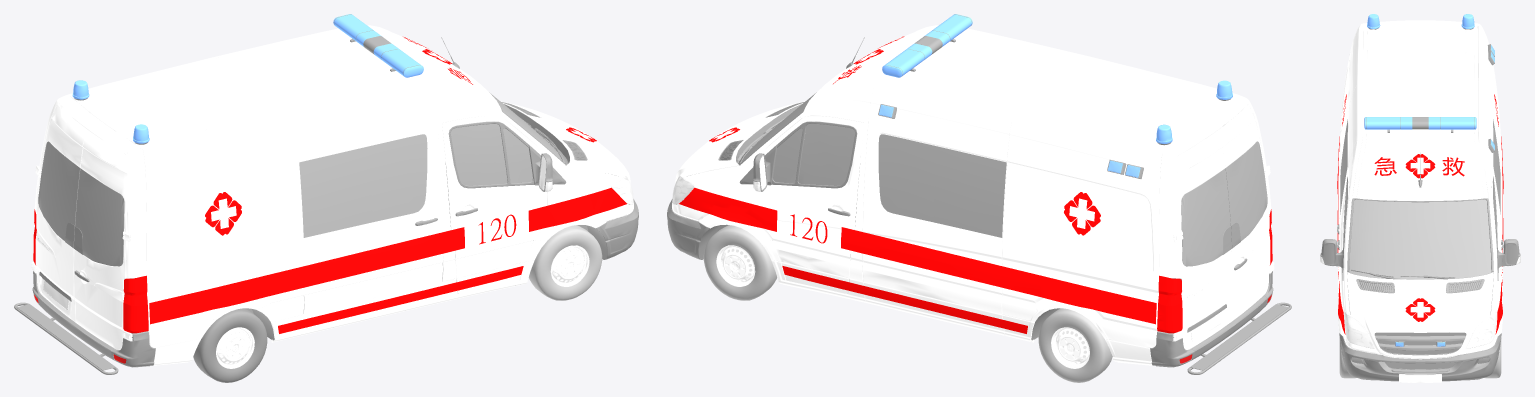
Rendered from Ambulance.glb.
The picture shows the model from 3 angles, left to right: view 1: azimuth 30°, elevation 25°; view 2: azimuth 150°, elevation 25°; view 3: azimuth 270°, elevation 25°; orthographic projection. The views are drawn at different scales.
Parts seen in each view (by area): view 1: jiuhuche_16, jiuhuche_25, jiuhuche_28, jiuhuche_13, jiuhuche_26, jiuhuche_11, jiuhuche_29, jiuhuche_18, jiuhuche_12, jiuhuche_39, jiuhuche_15, jiuhuche_38; view 2: jiuhuche_16, jiuhuche_25, jiuhuche_28, jiuhuche_13, jiuhuche_26, jiuhuche_11, jiuhuche_29, jiuhuche_12, jiuhuche_18, jiuhuche_39, jiuhuche_15; view 3: jiuhuche_25, jiuhuche_28, jiuhuche_26, jiuhuche_16, jiuhuche_13, jiuhuche_18, jiuhuche_23, jiuhuche_22, jiuhuche_11, jiuhuche_24.
Boxes of the visible parts, x1,y1,x2,y2 form: jiuhuche_16: (34, 25, 629, 365); jiuhuche_25: (31, 26, 633, 349); jiuhuche_28: (38, 92, 564, 266); jiuhuche_13: (149, 37, 626, 324); jiuhuche_26: (32, 14, 638, 367); jiuhuche_11: (193, 225, 602, 382); jiuhuche_29: (256, 240, 547, 322); jiuhuche_18: (72, 14, 423, 143); jiuhuche_12: (278, 266, 523, 333); jiuhuche_39: (33, 209, 148, 333); jiuhuche_15: (17, 304, 115, 370); jiuhuche_38: (148, 319, 217, 347); jiuhuche_16: (676, 25, 1271, 365); jiuhuche_25: (672, 26, 1274, 349); jiuhuche_28: (741, 92, 1267, 266); jiuhuche_13: (679, 36, 1156, 324); jiuhuche_26: (667, 14, 1273, 367); jiuhuche_11: (703, 225, 1112, 382); jiuhuche_29: (758, 240, 1157, 347); jiuhuche_12: (782, 266, 1027, 333); jiuhuche_18: (882, 14, 1232, 143); jiuhuche_39: (1157, 209, 1272, 333); jiuhuche_15: (1190, 304, 1288, 370); jiuhuche_25: (1345, 20, 1495, 359); jiuhuche_28: (1340, 119, 1500, 279); jiuhuche_26: (1320, 28, 1520, 381); jiuhuche_16: (1337, 23, 1503, 344); jiuhuche_13: (1337, 94, 1503, 334); jiuhuche_18: (1364, 14, 1476, 346); jiuhuche_23: (1344, 312, 1496, 348); jiuhuche_22: (1345, 312, 1495, 348); jiuhuche_11: (1339, 339, 1501, 378); jiuhuche_24: (1399, 374, 1441, 382).
Size of the model in its own units: 5.73 by 2.56 by 2.29.
